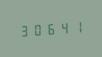four: (57, 19, 69, 35)
one: (70, 18, 82, 34)
six: (44, 20, 56, 36)
three: (18, 22, 30, 38)
zero: (31, 21, 43, 37)
